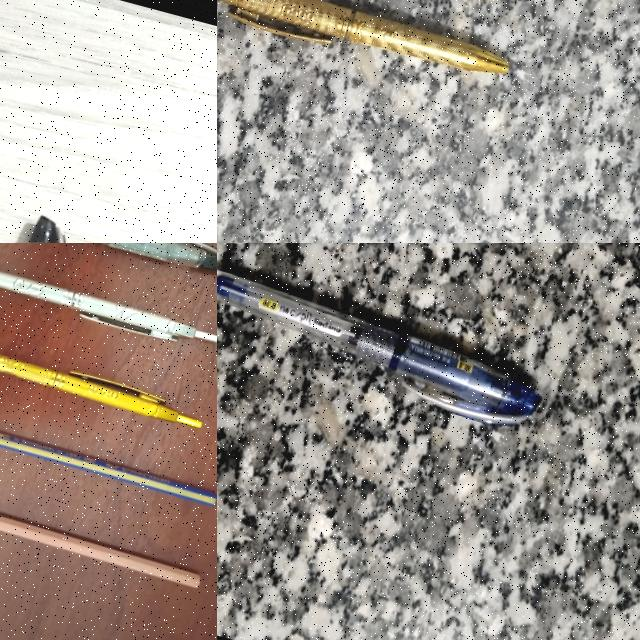pen: (217, 270, 540, 424), (0, 243, 217, 278), (29, 217, 63, 242)
pencil: (0, 459, 200, 585), (0, 383, 200, 499)
signature pen: (0, 245, 217, 354), (221, 0, 508, 73), (0, 326, 201, 428)
